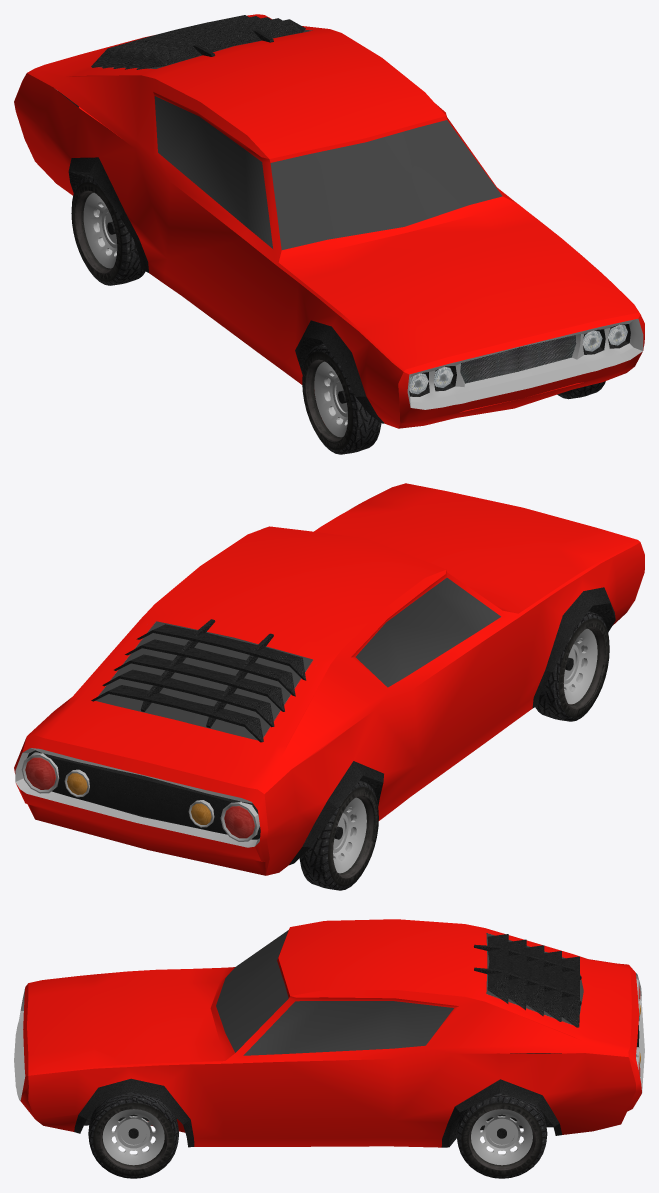
Rendered from car_(carich).fbx.
3 views of the same model, one above another, from view 1: azimuth 30°, elevation 25°; view 2: azimuth 150°, elevation 25°; view 3: azimuth 270°, elevation 25° (orthographic). The views are drawn at different scales.
Parts seen in each view (by area): view 1: RetopoFlow; view 2: RetopoFlow; view 3: RetopoFlow.
Boxes of the visible parts, bbox=[...] form: RetopoFlow: bbox=[14, 14, 644, 454]; RetopoFlow: bbox=[14, 483, 644, 890]; RetopoFlow: bbox=[14, 919, 644, 1178].
Bounding box in the file's own units: 949 × 751 × 2378.
